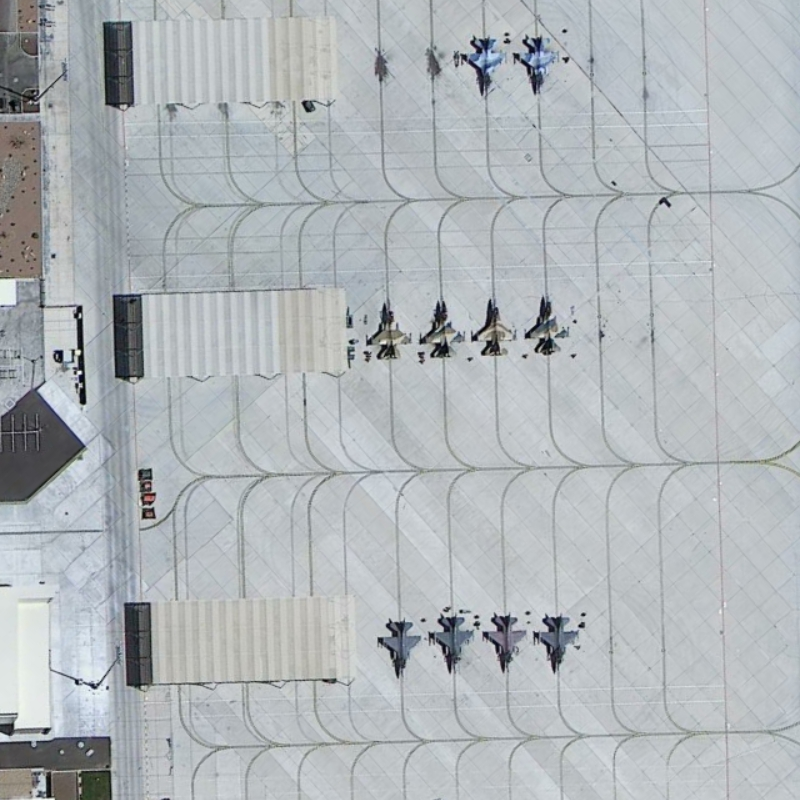A5: (419, 291, 470, 368), (518, 290, 574, 360), (514, 26, 565, 100), (459, 30, 509, 105), (362, 290, 414, 362), (374, 609, 424, 682), (479, 607, 530, 678), (429, 608, 479, 680), (472, 293, 520, 362), (532, 610, 582, 676)
